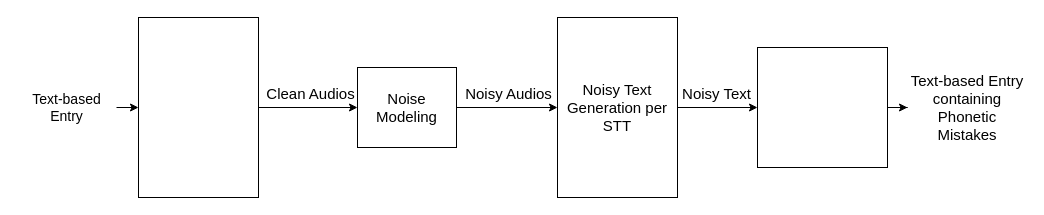
Image size: 1044x215. Some labels were removed from this diagram. The box of each missing label's shape, as (x1, y1, x2, y2) in pixels:
Audio Generation per TTS: (138, 16, 258, 198)
Choice of Phonetic mistakes among candidates per Audio embedding similarity: (756, 46, 888, 168)
